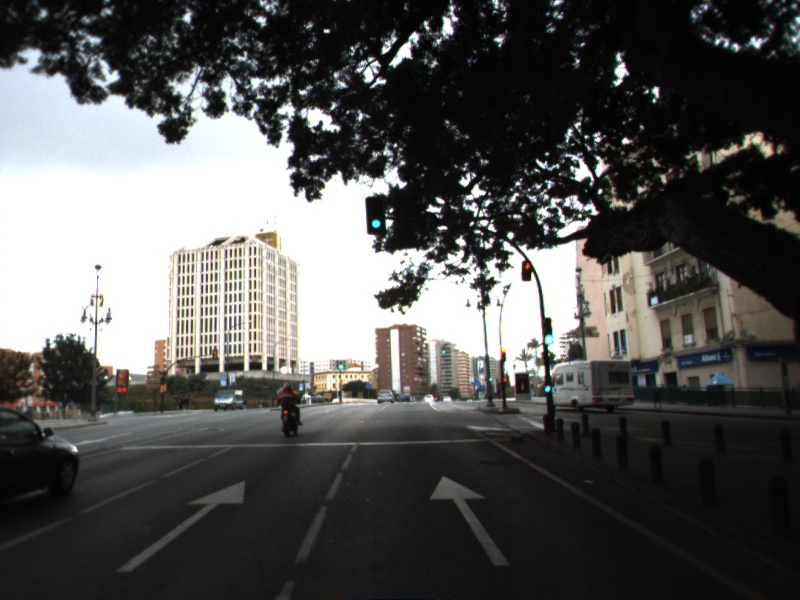STRAIGHT: (113, 477, 248, 574), (426, 473, 514, 569)
